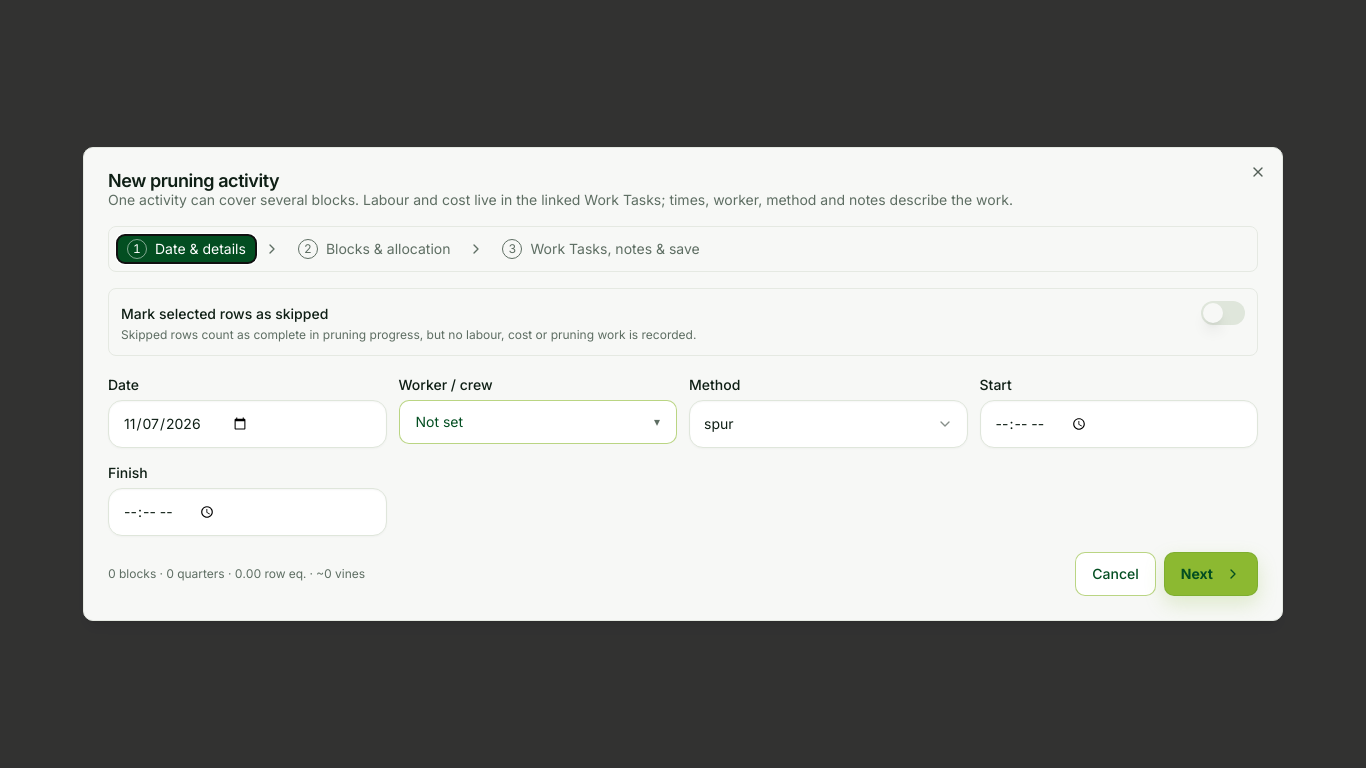
Scenario: Record Pruning dialog — skipped mode › requires at least one selected row section
The image size is (1366, 768).
Click the switch named "Mark selected rows as skipped" at (1223, 313), box x1=1201 y1=301 x2=1245 y2=325
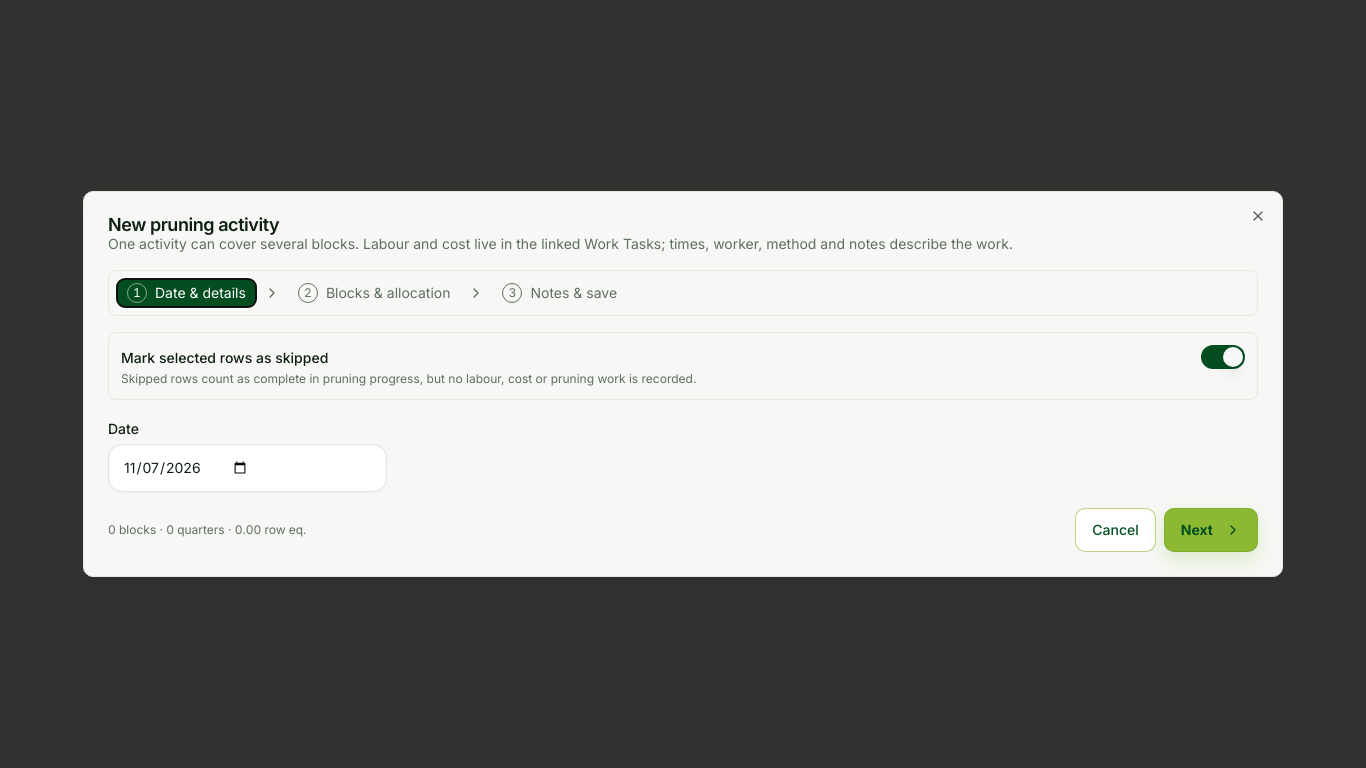
Click the button "3 Notes & save" at (560, 293), box x1=492 y1=279 x2=627 y2=307
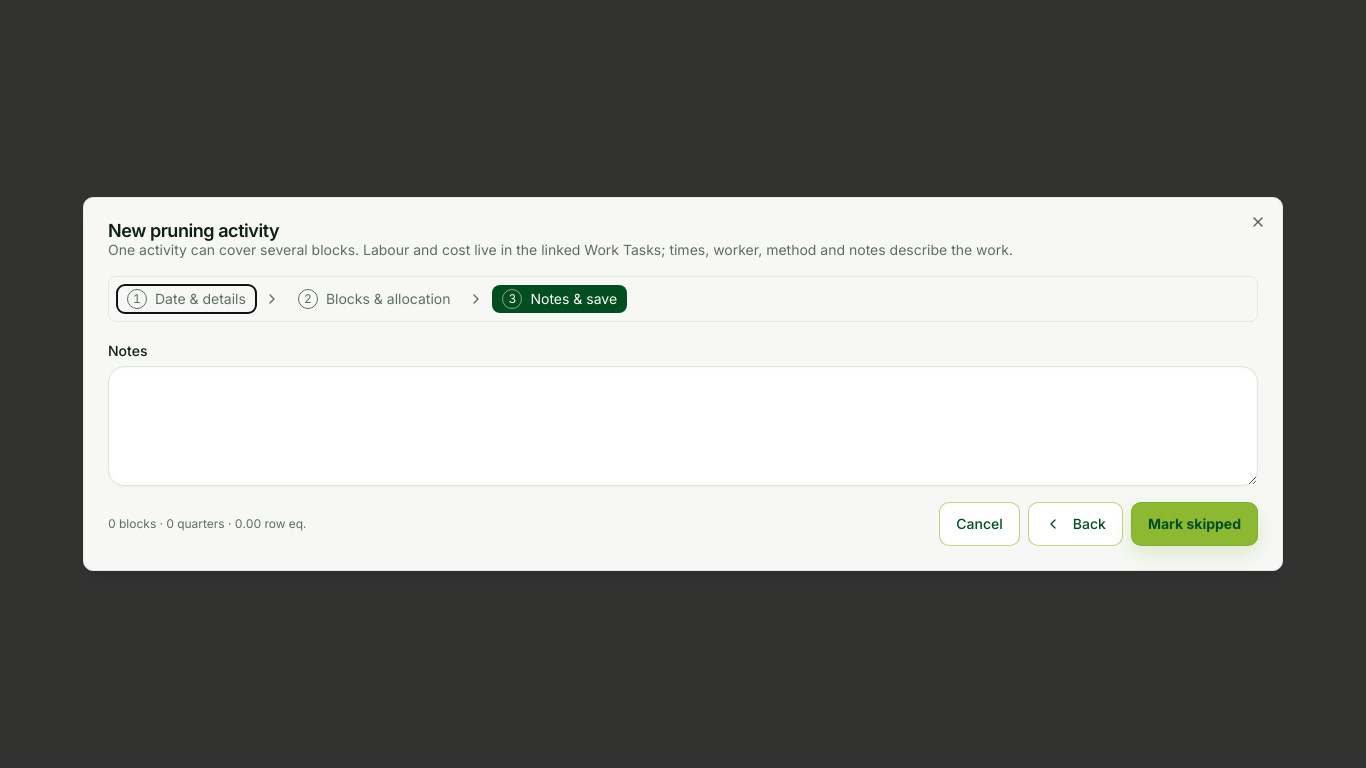
Click the button "Mark skipped" at (1194, 524), box x1=1131 y1=502 x2=1258 y2=546
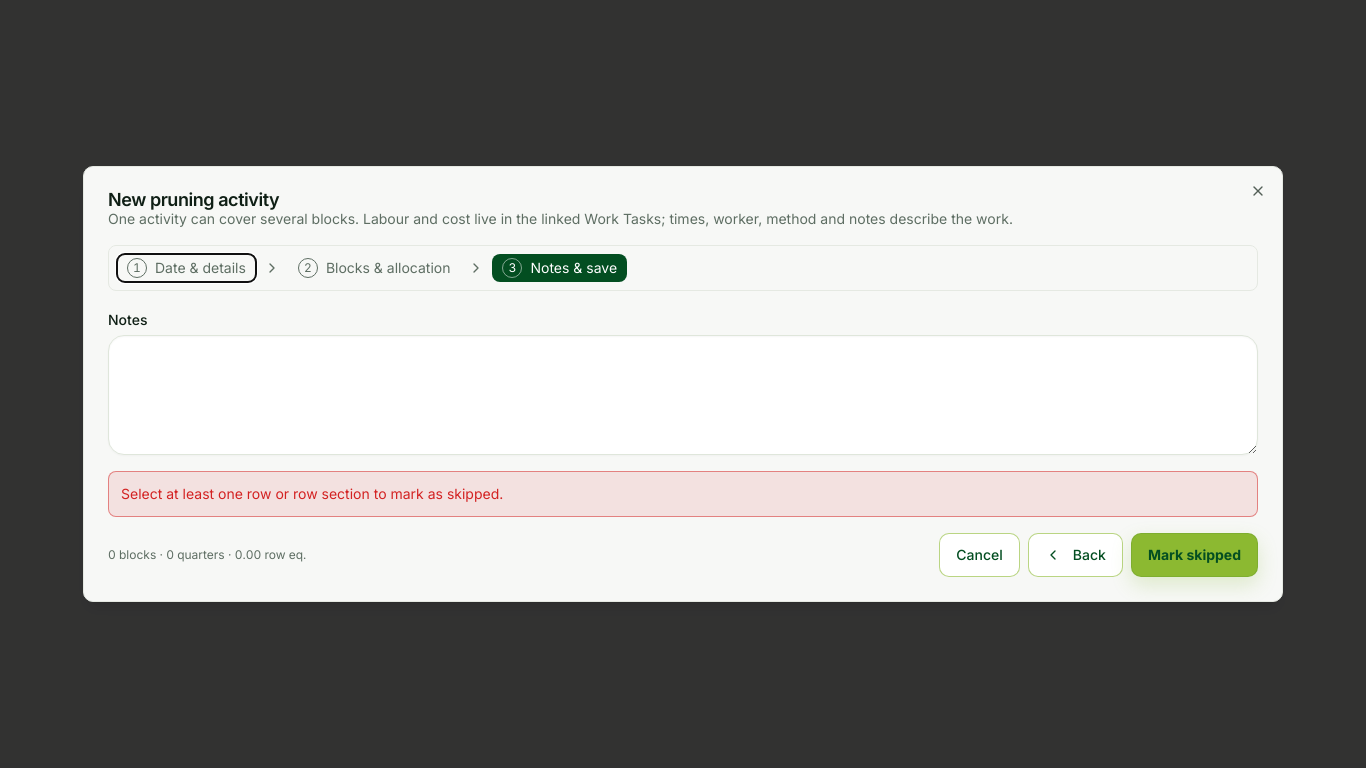
Result: the text "Select at least one row or row section to mark as skipped." is shown at x1=108 y1=471 x2=1258 y2=517
